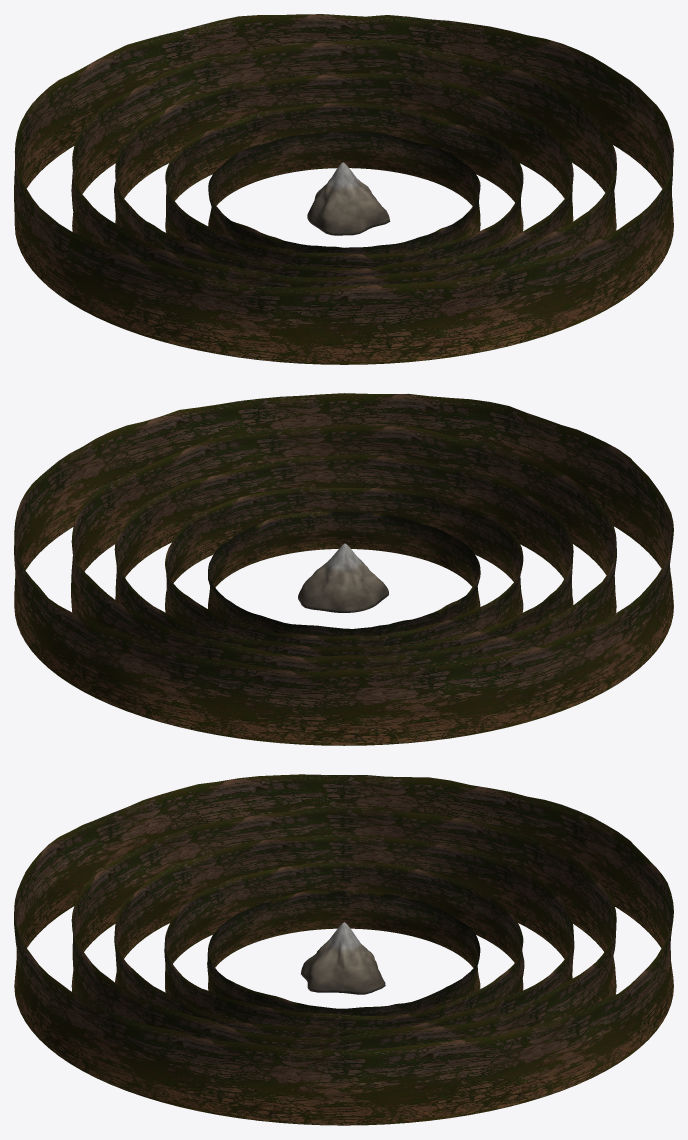
The model's file is mountains-v2.glb.
3 views of the same model, one above another, from view 1: azimuth 30°, elevation 25°; view 2: azimuth 150°, elevation 25°; view 3: azimuth 270°, elevation 25° (orthographic).
Visible parts, largest first — view 1: RangeRing, HeroPeak; view 2: RangeRing, HeroPeak; view 3: RangeRing, HeroPeak.
Boxes of the visible parts, x1,y1,x2,y2 form: RangeRing: (14, 14, 673, 364); HeroPeak: (307, 162, 390, 235); RangeRing: (14, 393, 673, 745); HeroPeak: (298, 543, 388, 612); RangeRing: (14, 774, 673, 1125); HeroPeak: (301, 922, 385, 994).
Bounding box in the file's own units: 4620 × 614 × 4602.
Materials: 3 (3 with a texture image).
